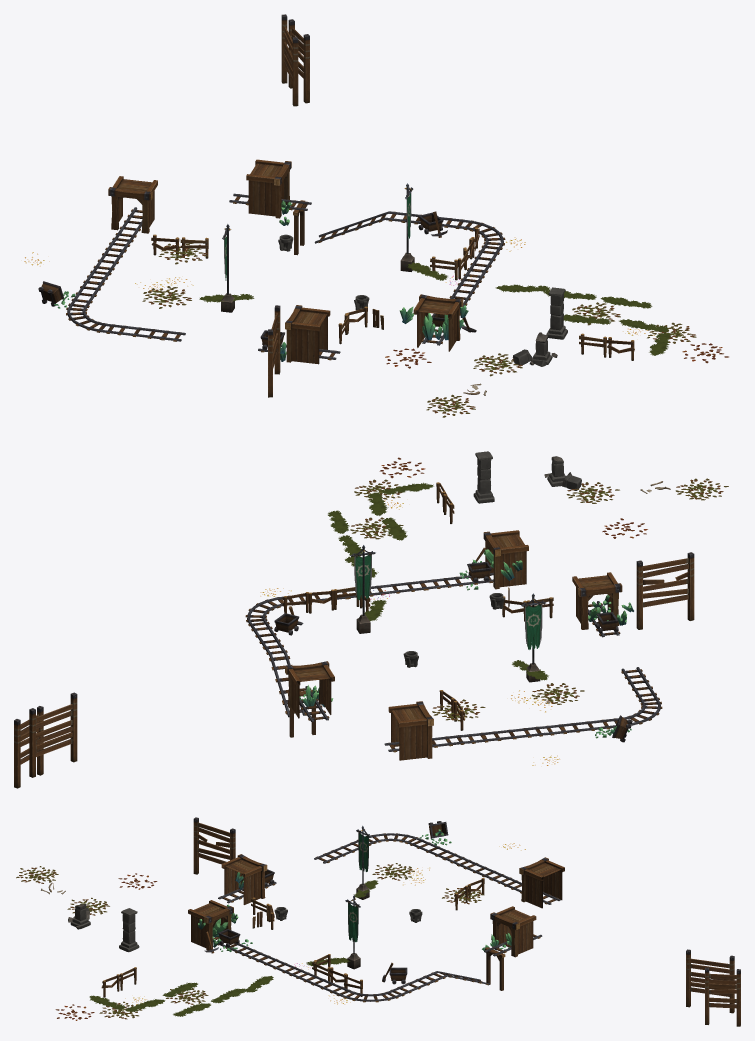
File: GameProps.fbx
The picture shows the model from 3 angles, top to bottom: view 1: azimuth 30°, elevation 25°; view 2: azimuth 150°, elevation 25°; view 3: azimuth 270°, elevation 25°; orthographic projection. The views are drawn at different scales.
Parts seen in each view (by area): view 1: Wagon_gate1_3, Wagon_gate1_1, Wagon_gate1_2, Wagon_gate1, Barrier1, Barrier4, Barrier2, Column3A, Column3B; view 2: Barrier2, Barrier1, Wagon_gate1_2, Wagon_gate1, Wagon_gate1_1, Wagon_gate1_3, Banner, Barrier4, Banner_1, Column3A, Column3B, Wagon_Tracks1_9 (+2 smaller); view 3: Wagon_gate1_2, Wagon_gate1_1, Wagon_gate1_3, Barrier2, Barrier4, Wagon_gate1, Barrier1, Banner, Column3A, Banner_1, Wagon_Tracks1_3, Wagon_Tracks1_2 (+8 smaller).
Part boxes in pixels (left/top/right/bottom): Wagon_gate1_3: left=285, top=305, right=330, bottom=364; Wagon_gate1_1: left=246, top=159, right=291, bottom=218; Wagon_gate1_2: left=108, top=176, right=157, bottom=233; Wagon_gate1: left=413, top=294, right=463, bottom=351; Barrier1: left=281, top=14, right=298, bottom=106; Barrier4: left=288, top=19, right=309, bottom=103; Barrier2: left=268, top=305, right=280, bottom=397; Column3A: left=546, top=287, right=567, bottom=339; Column3B: left=513, top=332, right=557, bottom=366; Barrier2: left=636, top=552, right=694, bottom=629; Barrier1: left=29, top=692, right=77, bottom=777; Wagon_gate1_2: left=388, top=701, right=433, bottom=760; Wagon_gate1: left=483, top=530, right=528, bottom=589; Wagon_gate1_1: left=285, top=661, right=334, bottom=718; Wagon_gate1_3: left=572, top=572, right=622, bottom=629; Banner: left=350, top=545, right=375, bottom=633; Barrier4: left=14, top=706, right=43, bottom=788; Banner_1: left=521, top=593, right=546, bottom=682; Column3A: left=473, top=451, right=494, bottom=503; Column3B: left=544, top=456, right=581, bottom=490; Wagon_Tracks1_9: left=463, top=726, right=545, bottom=743; Wagon_gate1_2: left=519, top=857, right=564, bottom=908; Wagon_gate1_1: left=490, top=906, right=536, bottom=957; Wagon_gate1_3: left=221, top=854, right=267, bottom=904; Barrier2: left=193, top=817, right=235, bottom=874; Barrier4: left=705, top=967, right=740, bottom=1026; Wagon_gate1: left=188, top=900, right=233, bottom=950; Barrier1: left=686, top=949, right=734, bottom=1013; Banner: left=345, top=895, right=360, bottom=969; Column3A: left=119, top=908, right=139, bottom=952; Banner_1: left=356, top=825, right=371, bottom=899; Wagon_Tracks1_3: left=294, top=971, right=351, bottom=996; Wagon_Tracks1_2: left=246, top=951, right=303, bottom=976.
Bounding box in the file's own units: 3372 × 841 × 5411.
7 materials, 7 textured.
